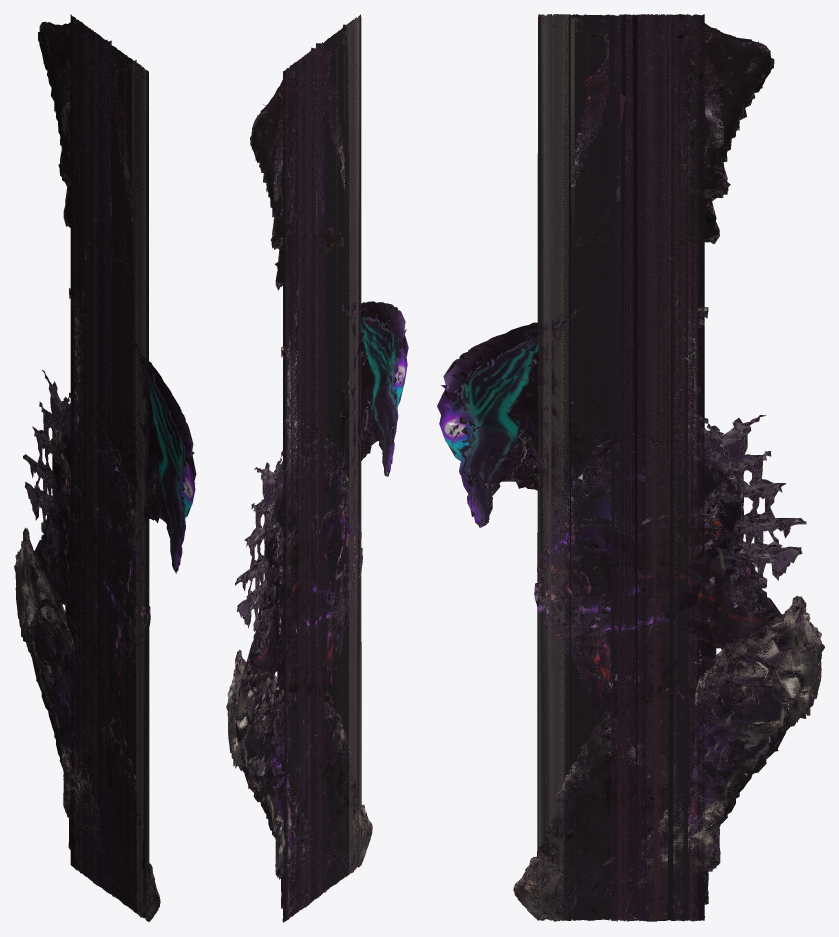
File: void_god-web.glb
The picture shows the model from 3 angles, left to right: view 1: azimuth 30°, elevation 25°; view 2: azimuth 150°, elevation 25°; view 3: azimuth 270°, elevation 25°; orthographic projection. The views are drawn at different scales.
Visible parts, largest first — view 1: geometry_0; view 2: geometry_0; view 3: geometry_0.
Boxes of the visible parts, x1,y1,x2,y2 form: geometry_0: (14, 14, 196, 921); geometry_0: (226, 14, 408, 922); geometry_0: (437, 14, 824, 921).
Bounding box in the file's own units: 0.1548 × 1.99 × 0.772.
Materials: 1 (1 with a texture image).
